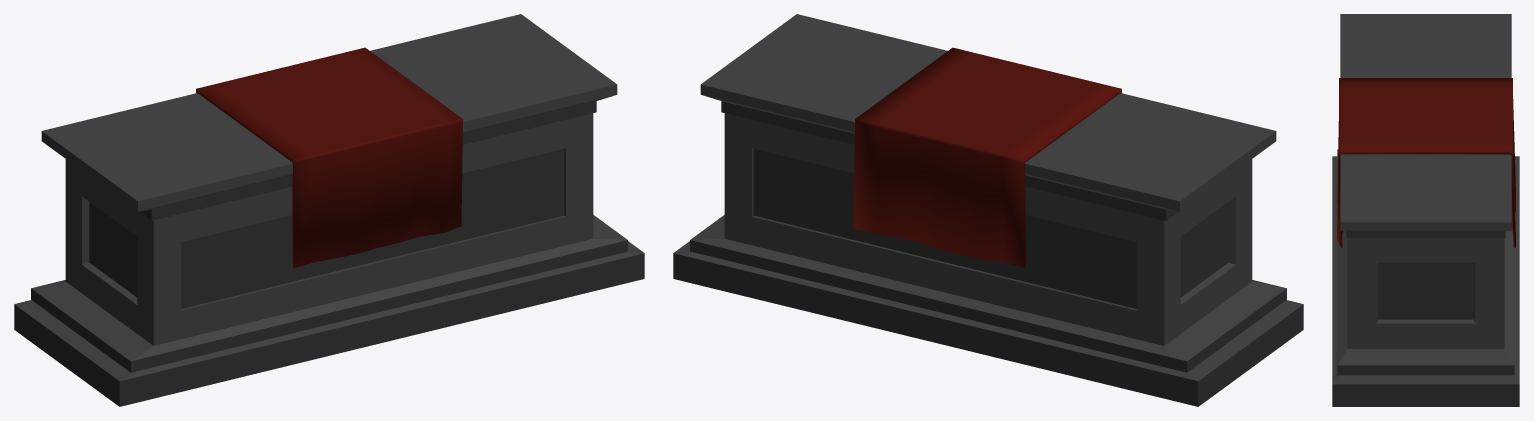
File: sarcophagus.fbx
3 renders of one model, left to right at view 1: azimuth 30°, elevation 25°; view 2: azimuth 150°, elevation 25°; view 3: azimuth 270°, elevation 25°, orthographic. The views are drawn at different scales.
Visible parts, largest first — view 1: Sarcophogus, Sarcophogus Lid, Sarcophagus Cloth; view 2: Sarcophogus, Sarcophogus Lid, Sarcophagus Cloth; view 3: Sarcophogus, Sarcophogus Lid, Sarcophagus Cloth.
Part boxes in pixels (x1,y1,x2,y2): Sarcophogus: [14, 113, 644, 406]; Sarcophogus Lid: [41, 14, 617, 220]; Sarcophagus Cloth: [196, 47, 462, 268]; Sarcophogus: [673, 113, 1303, 406]; Sarcophogus Lid: [700, 14, 1276, 220]; Sarcophagus Cloth: [853, 47, 1121, 267]; Sarcophogus: [1332, 149, 1519, 406]; Sarcophogus Lid: [1340, 14, 1511, 237]; Sarcophagus Cloth: [1337, 78, 1515, 247].
Bounding box in the file's own units: 242 × 84.03 × 88.1.
